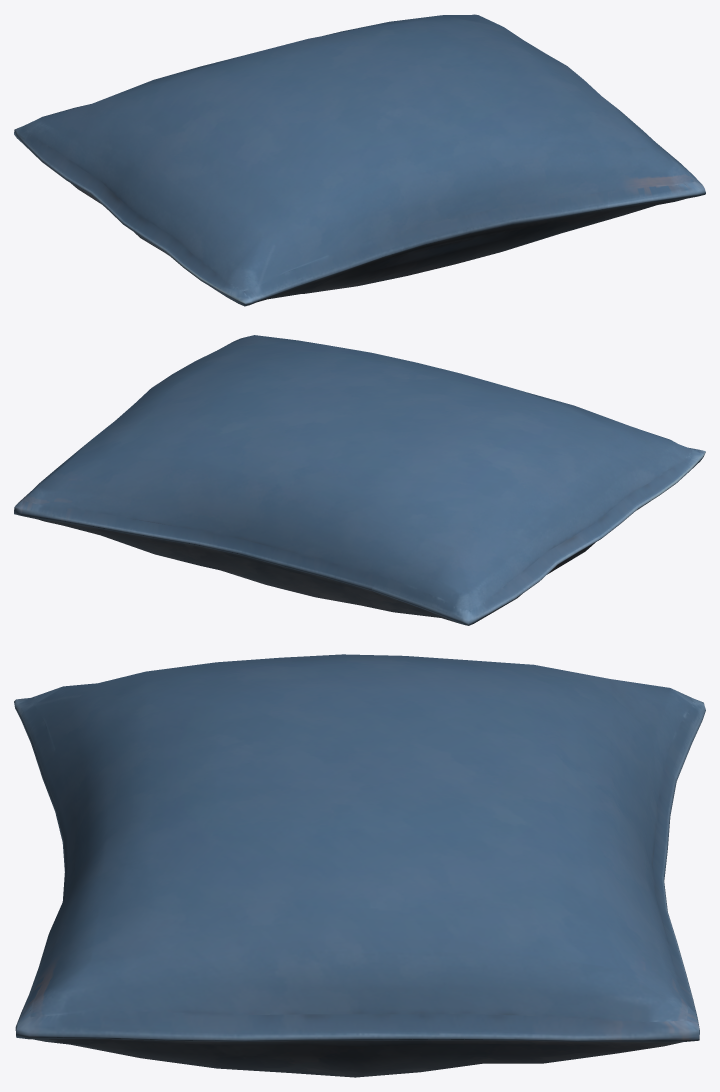
The model's file is SM_Pillow.fbx.
3 views of the same model, one above another, from view 1: azimuth 30°, elevation 25°; view 2: azimuth 150°, elevation 25°; view 3: azimuth 270°, elevation 25° (orthographic). The views are drawn at different scales.
Visible parts, largest first — view 1: SM_Pillow_LOD0; view 2: SM_Pillow_LOD0; view 3: SM_Pillow_LOD0.
Boxes of the visible parts, left/top/right/bottom form: SM_Pillow_LOD0: left=14, top=14, right=705, bottom=306; SM_Pillow_LOD0: left=14, top=335, right=705, bottom=625; SM_Pillow_LOD0: left=14, top=654, right=705, bottom=1077.
Size of the model in its own units: 61.69 by 52.37 by 19.33.
Materials: 1 (1 with a texture image).
